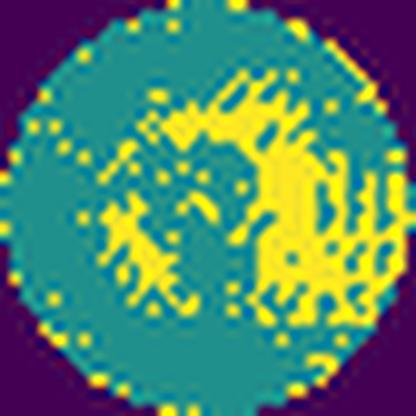Donut: (91, 70, 415, 332)
